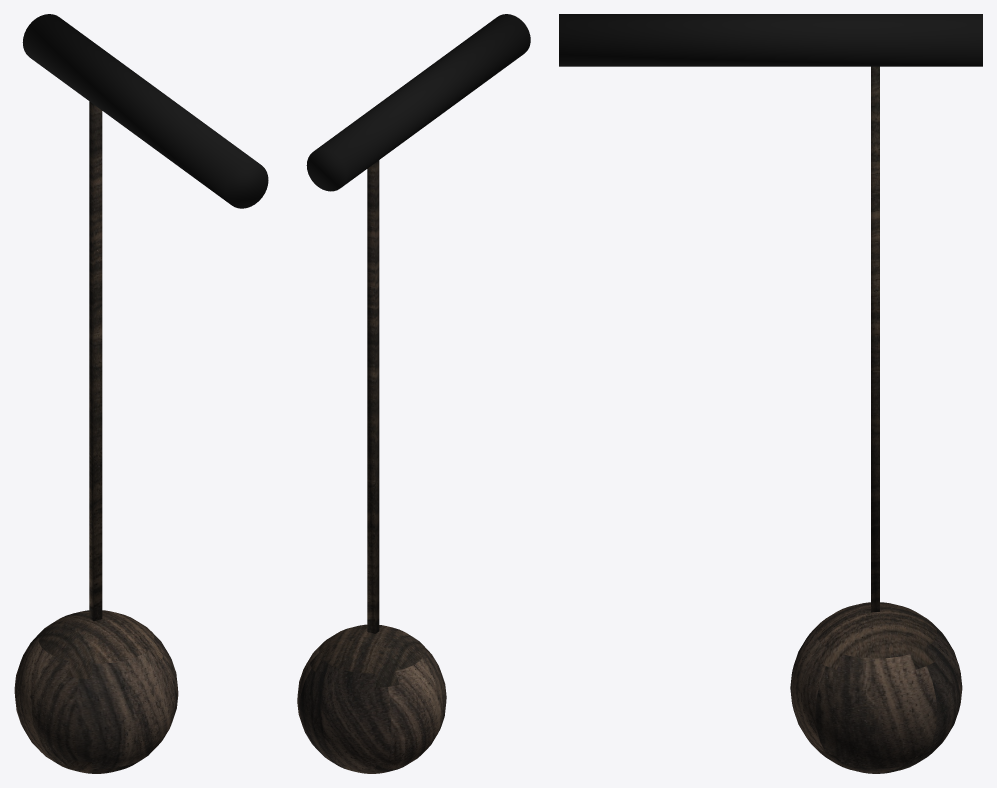
Rendered from treeball.obj.
The picture shows the model from 3 angles, left to right: view 1: azimuth 30°, elevation 25°; view 2: azimuth 150°, elevation 25°; view 3: azimuth 270°, elevation 25°; orthographic projection. The views are drawn at different scales.
Visible parts, largest first — view 1: Sphere, kvaka3_Cylinder; view 2: Sphere, kvaka3_Cylinder; view 3: Sphere, kvaka3_Cylinder.
Boxes of the visible parts, x1,y1,x2,y2 form: Sphere: (14, 101, 178, 773); kvaka3_Cylinder: (22, 14, 268, 208); Sphere: (297, 160, 446, 773); kvaka3_Cylinder: (306, 14, 530, 191); Sphere: (790, 66, 962, 773); kvaka3_Cylinder: (559, 14, 982, 66).
Bounding box in the file's own units: 0.8074 × 3.88 × 1.99.
Materials: 2 (1 with a texture image).
